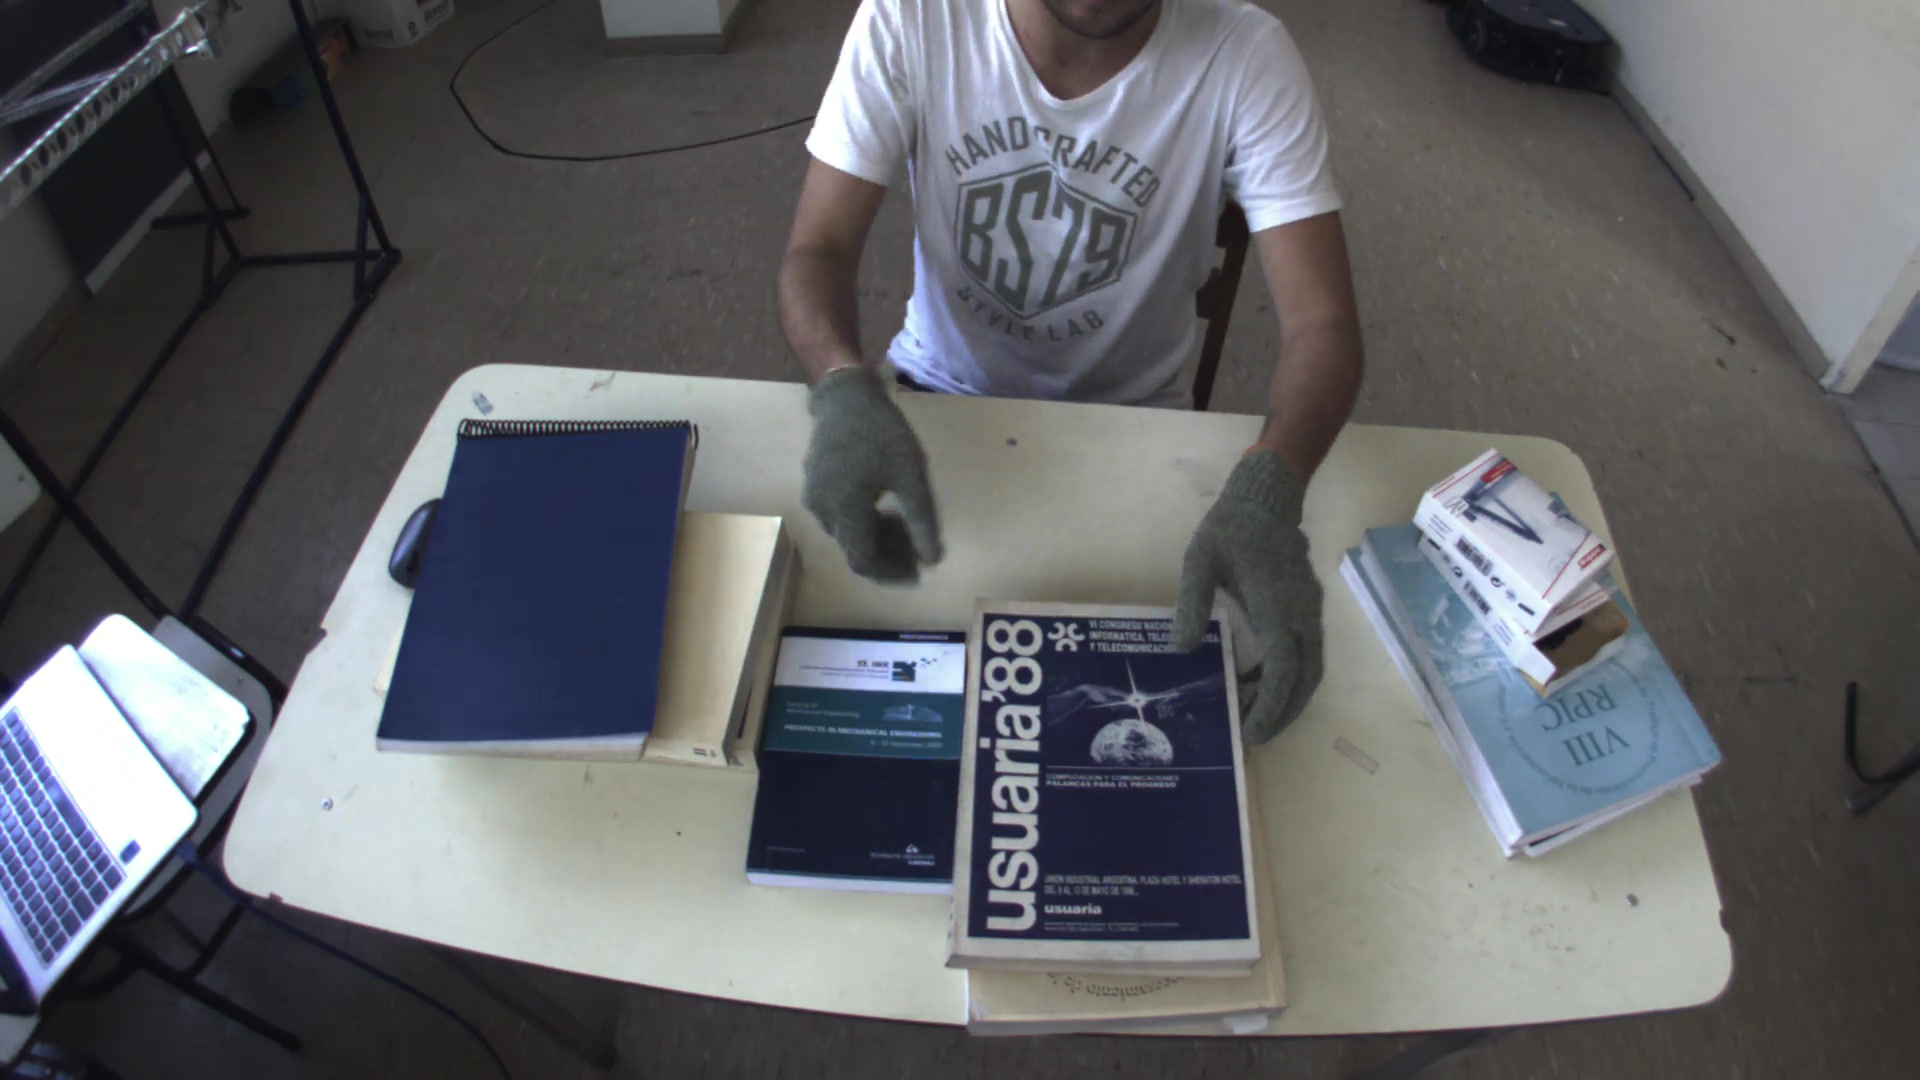hand: (1170, 431, 1337, 738), (786, 357, 947, 588)
